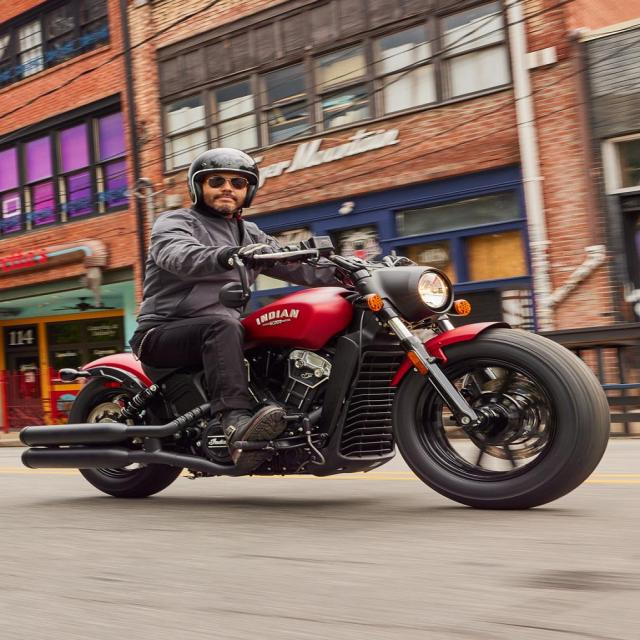motorcycle: (21, 149, 610, 509)
